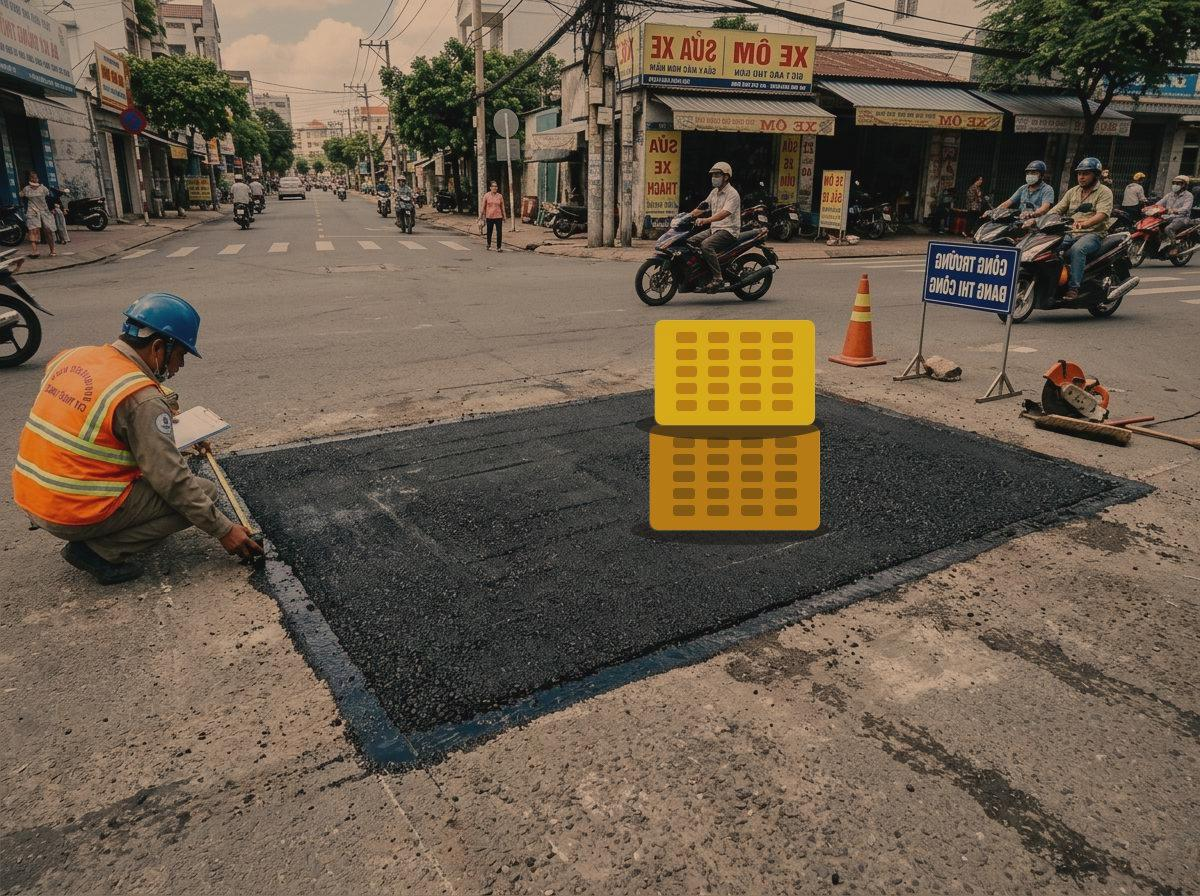ROAD_OBSTACLE: (645, 315, 825, 535)
